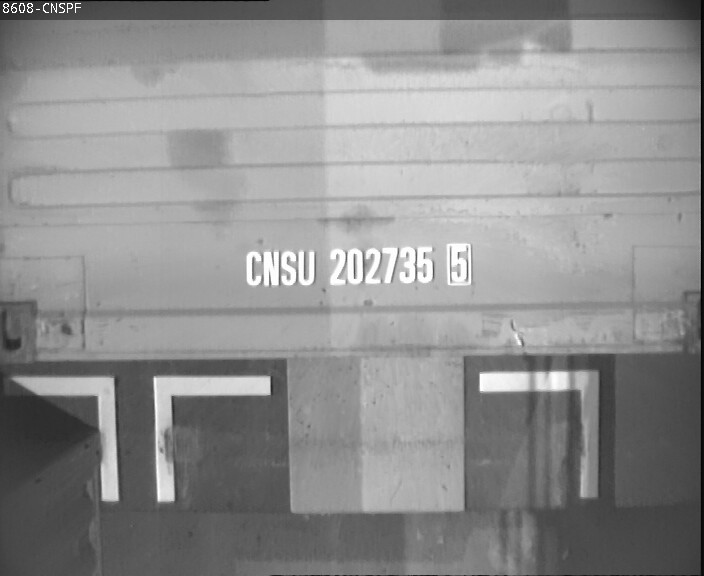groundmarker_1: (7, 375, 266, 501)
